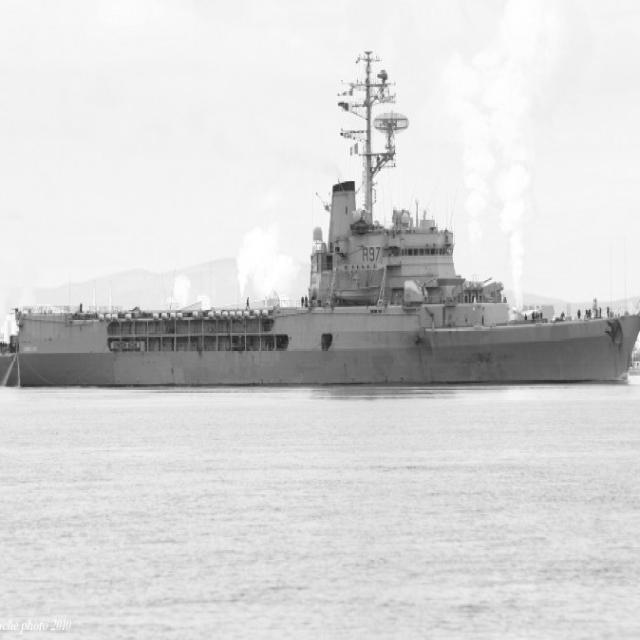Portanaves: (1, 44, 640, 388)
